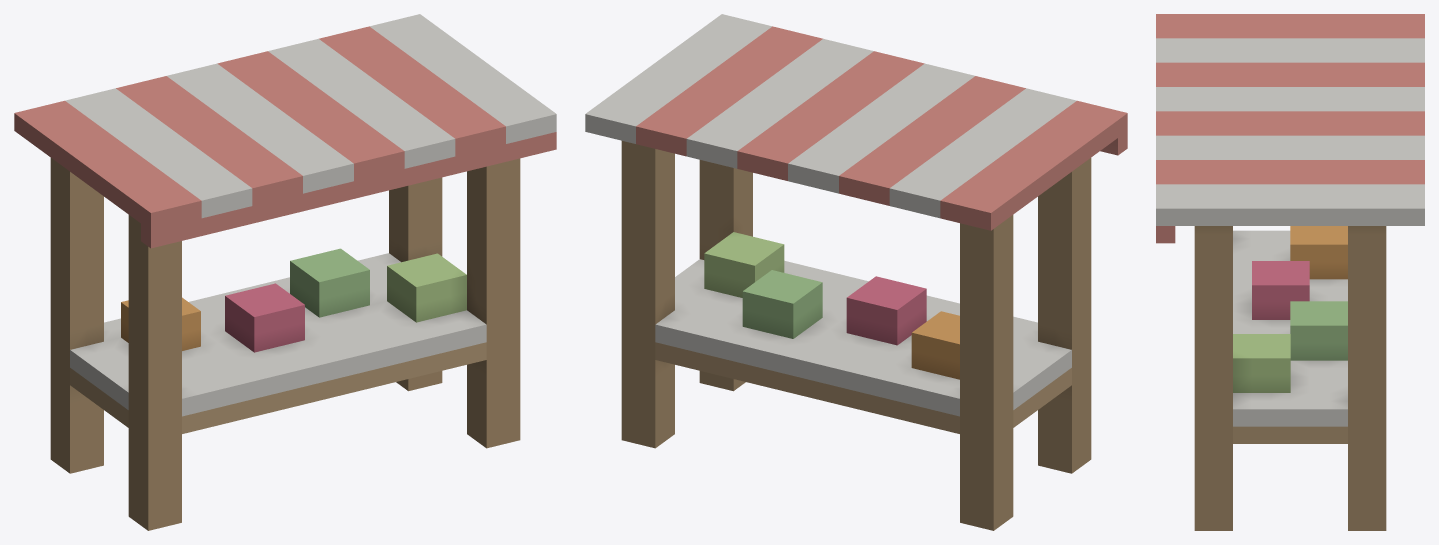
Rendered from etal.glb.
3 views of the same model, side by side, from view 1: azimuth 30°, elevation 25°; view 2: azimuth 150°, elevation 25°; view 3: azimuth 270°, elevation 25° (orthographic).
Parts seen in each view (by area): view 1: geometry_0; view 2: geometry_0; view 3: geometry_0.
Part boxes in pixels (x1,y1,x2,y2): geometry_0: [14, 14, 556, 530]; geometry_0: [585, 14, 1127, 530]; geometry_0: [1156, 14, 1424, 530].
Bounding box in the file's own units: 3 × 2.38 × 1.75.
